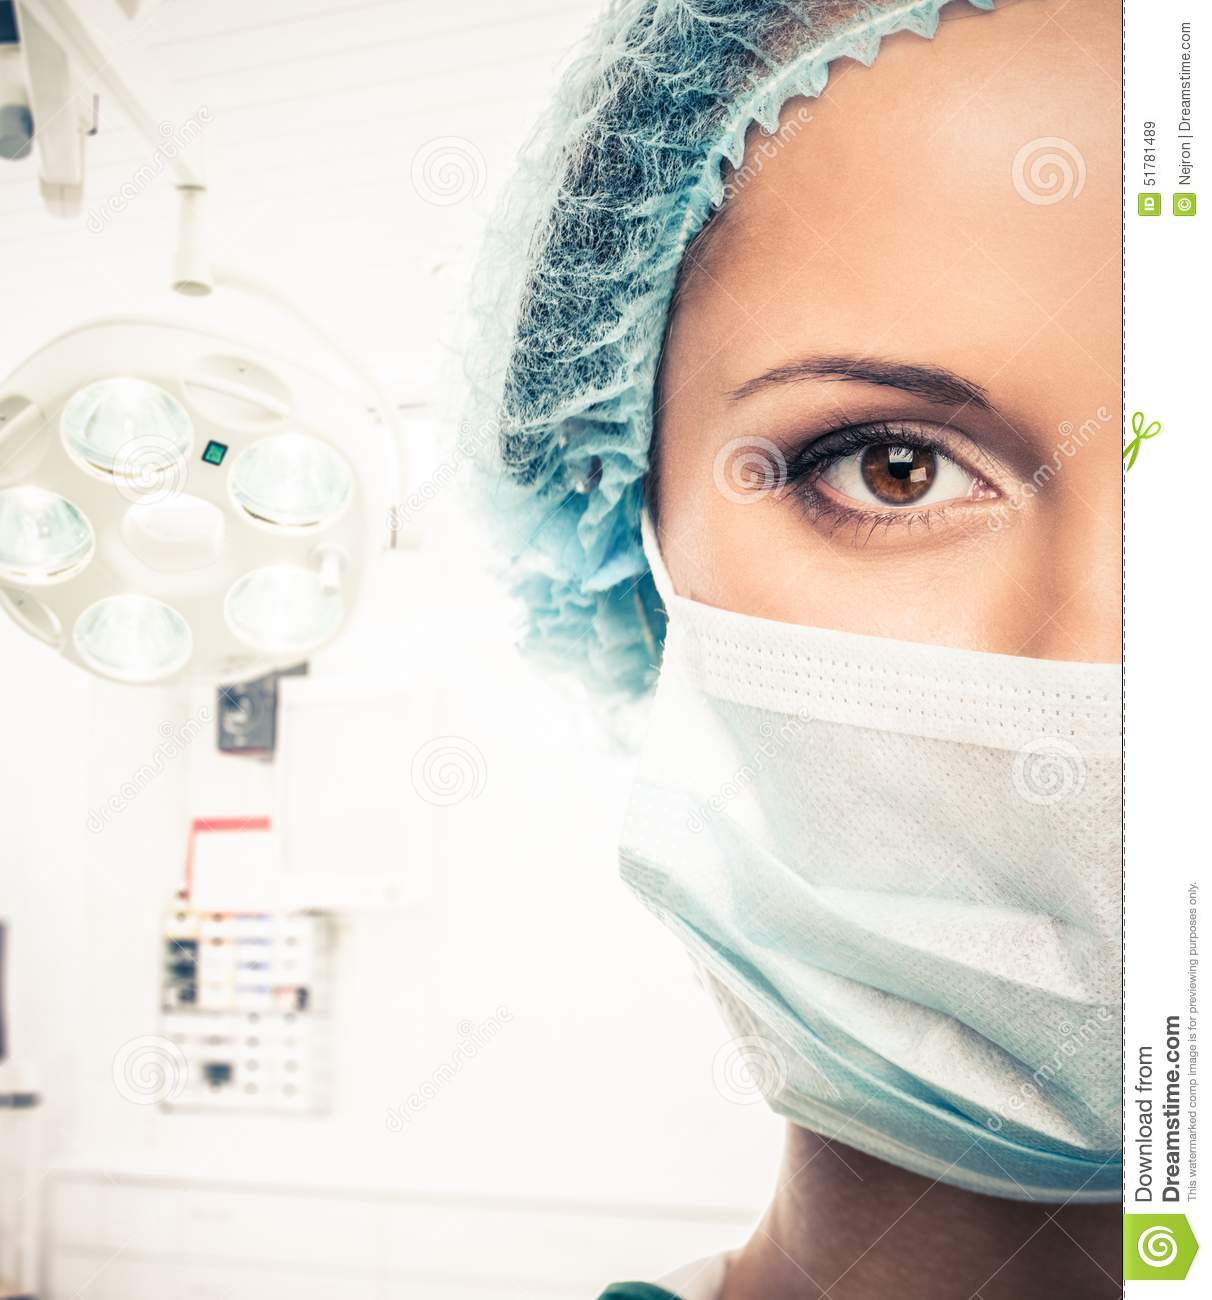mask: (632, 597, 1127, 1193)
